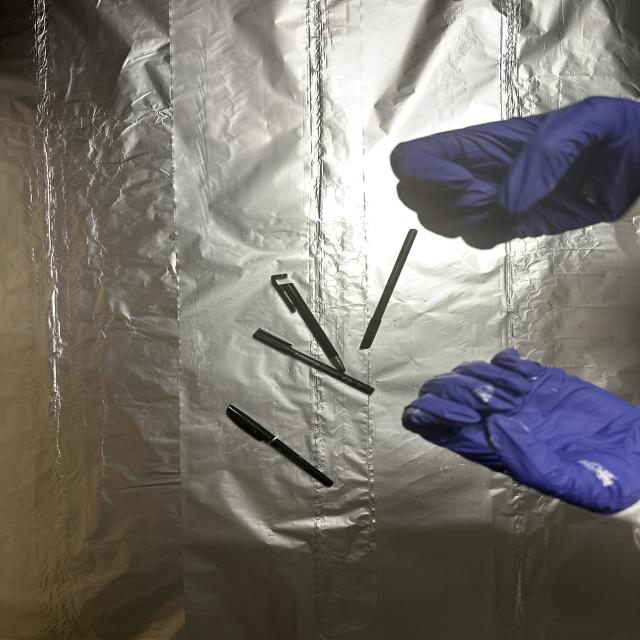gloves_contaminated: (403, 350, 640, 515), (390, 97, 640, 249)
